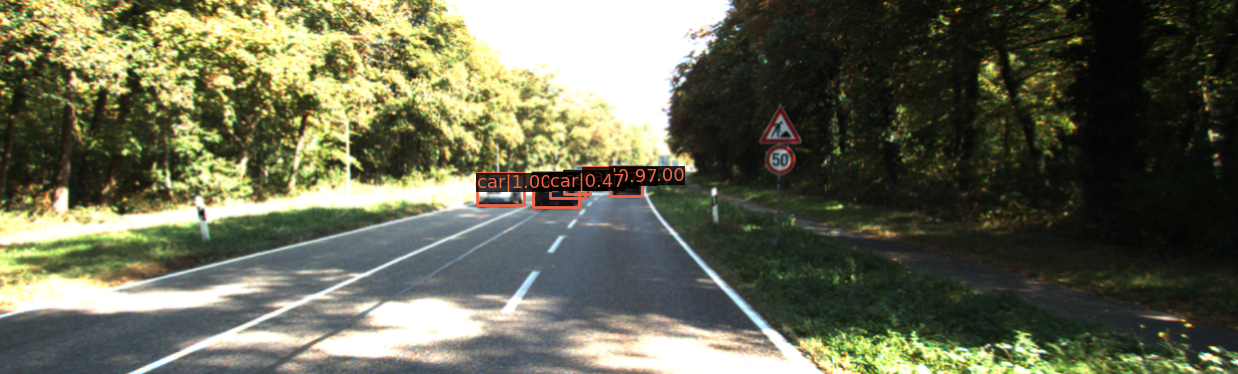car: (534, 173, 579, 208), (477, 173, 524, 205), (612, 168, 641, 194), (585, 167, 608, 188)
